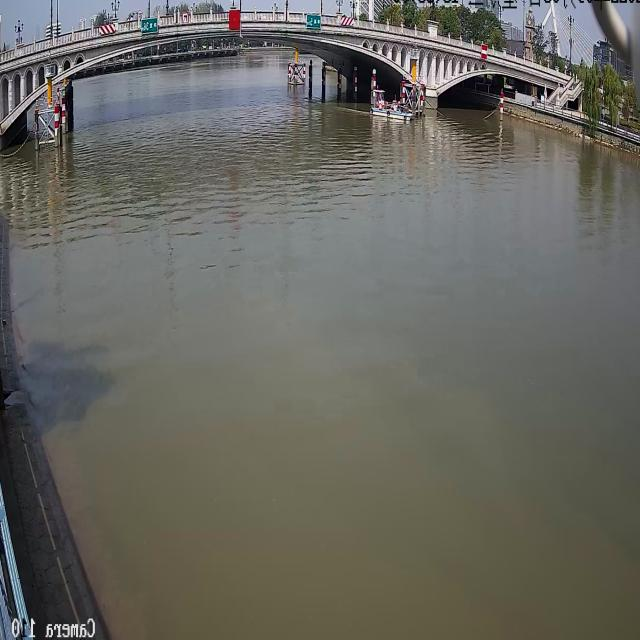ship: (370, 89, 415, 120)
